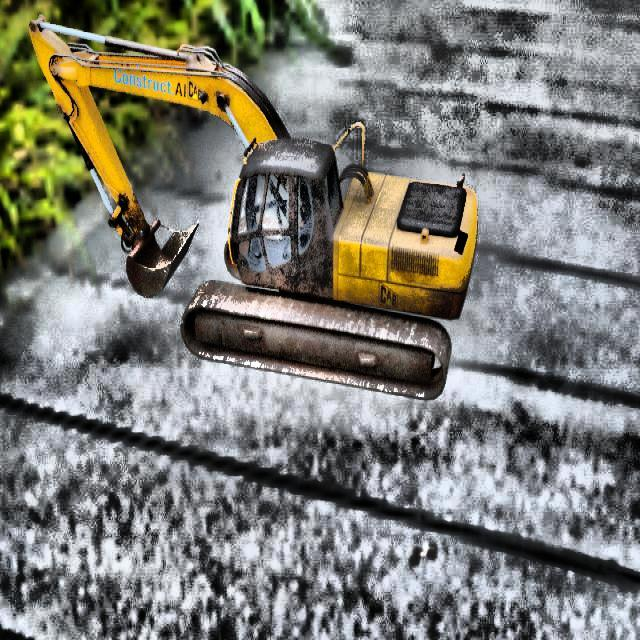excavator: (28, 12, 478, 400)
